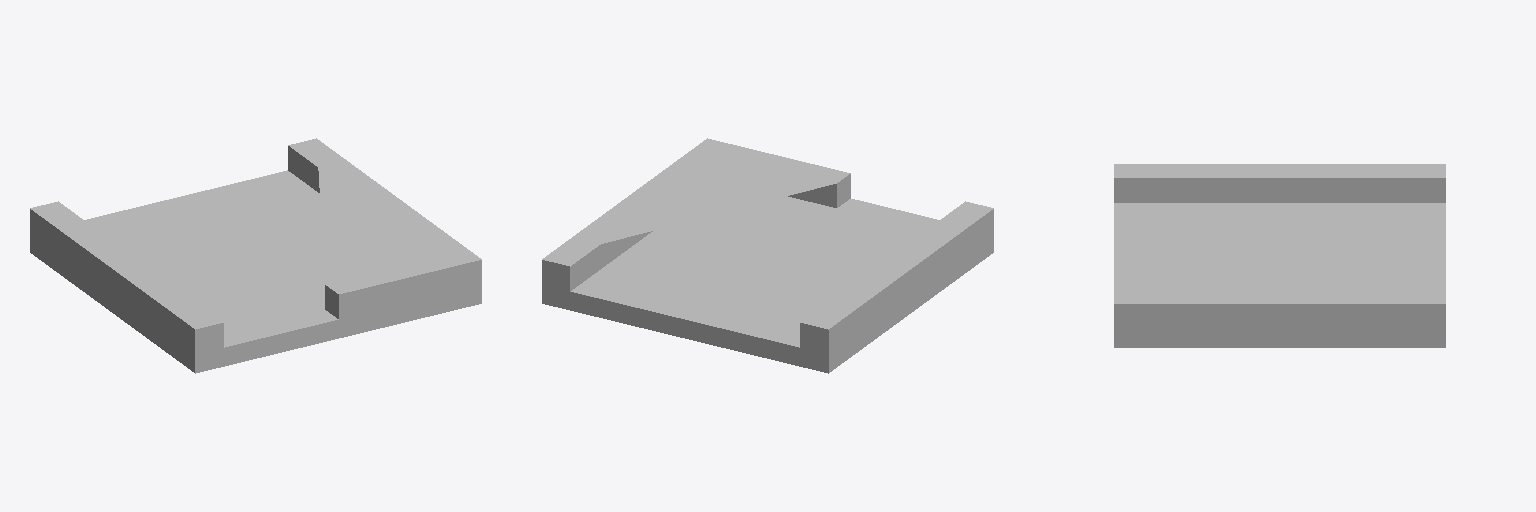
File: Wall_right_01.obj
The picture shows the model from 3 angles: view 1: azimuth 30°, elevation 25°; view 2: azimuth 150°, elevation 25°; view 3: azimuth 270°, elevation 25°; orthographic projection.
Parts seen in each view (by area): view 1: Mesh1 Wall_right Model; view 2: Mesh1 Wall_right Model; view 3: Mesh1 Wall_right Model.
Boxes of the visible parts, box(x1,y1,x2,y2) form: Mesh1 Wall_right Model: box(30, 138, 481, 373); Mesh1 Wall_right Model: box(542, 138, 993, 373); Mesh1 Wall_right Model: box(1114, 164, 1445, 347).
Size of the model in its own units: 3 by 0.44 by 3.